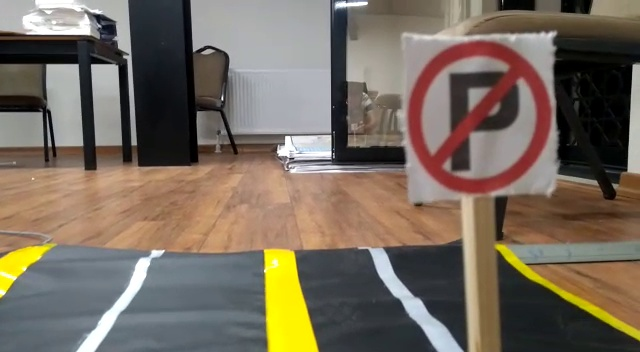park_yapilmaz: (405, 38, 552, 192)
